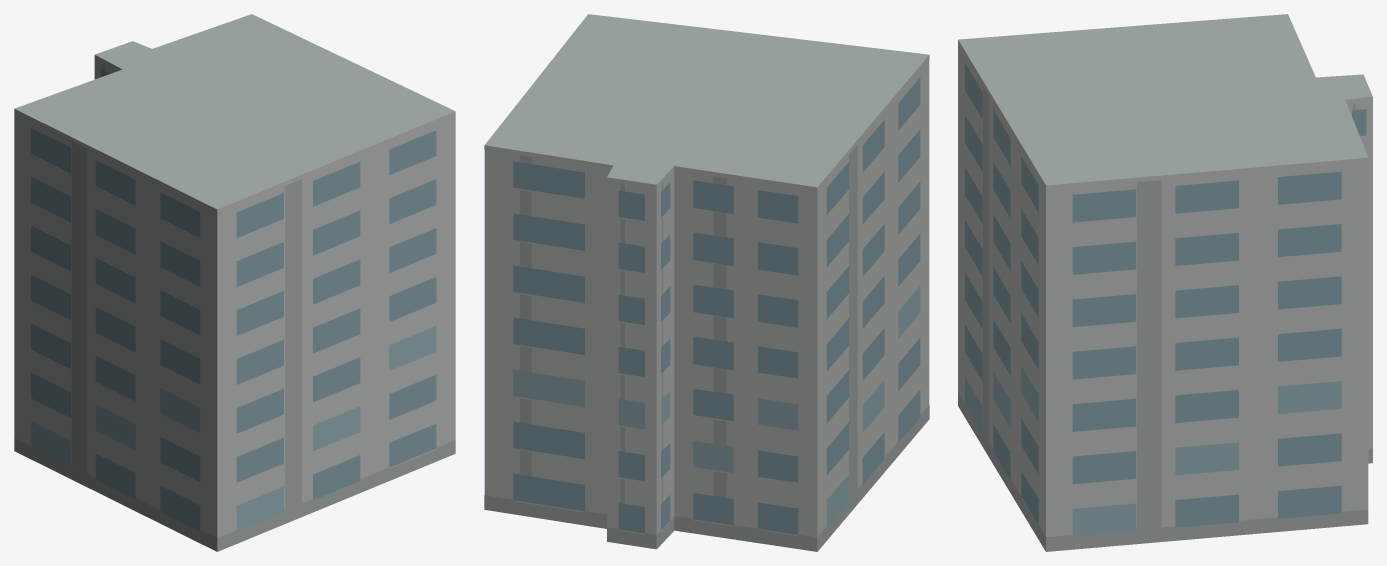
File: survey-upis-32491227.glb
3 views of the same model, side by side, from view 1: azimuth 30°, elevation 25°; view 2: azimuth 150°, elevation 25°; view 3: azimuth 270°, elevation 25° (orthographic). The views are drawn at different scales.
Parts seen in each view (by area): view 1: survey-upis-32491227.tmp; view 2: survey-upis-32491227.tmp; view 3: survey-upis-32491227.tmp.
Boxes of the visible parts, x1=… form: survey-upis-32491227.tmp: x1=14, y1=14, x2=455, y2=551; survey-upis-32491227.tmp: x1=484, y1=14, x2=929, y2=551; survey-upis-32491227.tmp: x1=958, y1=14, x2=1372, y2=551.
Size of the model in its own units: 19.38 by 19.3 by 19.81.
